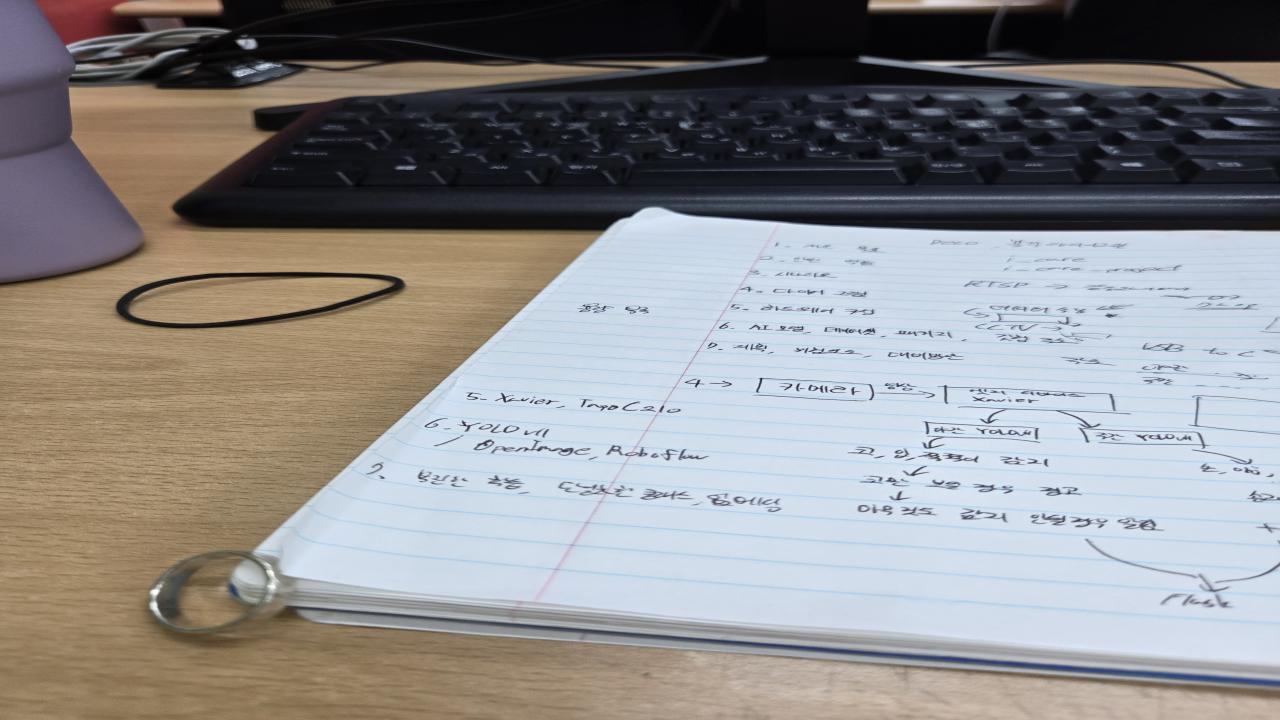ring: (145, 550, 300, 636)
